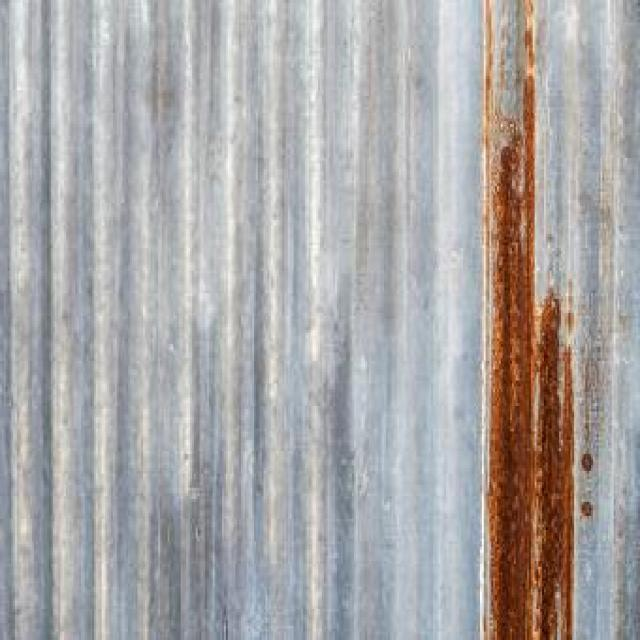Corrosion: (486, 0, 573, 640)
